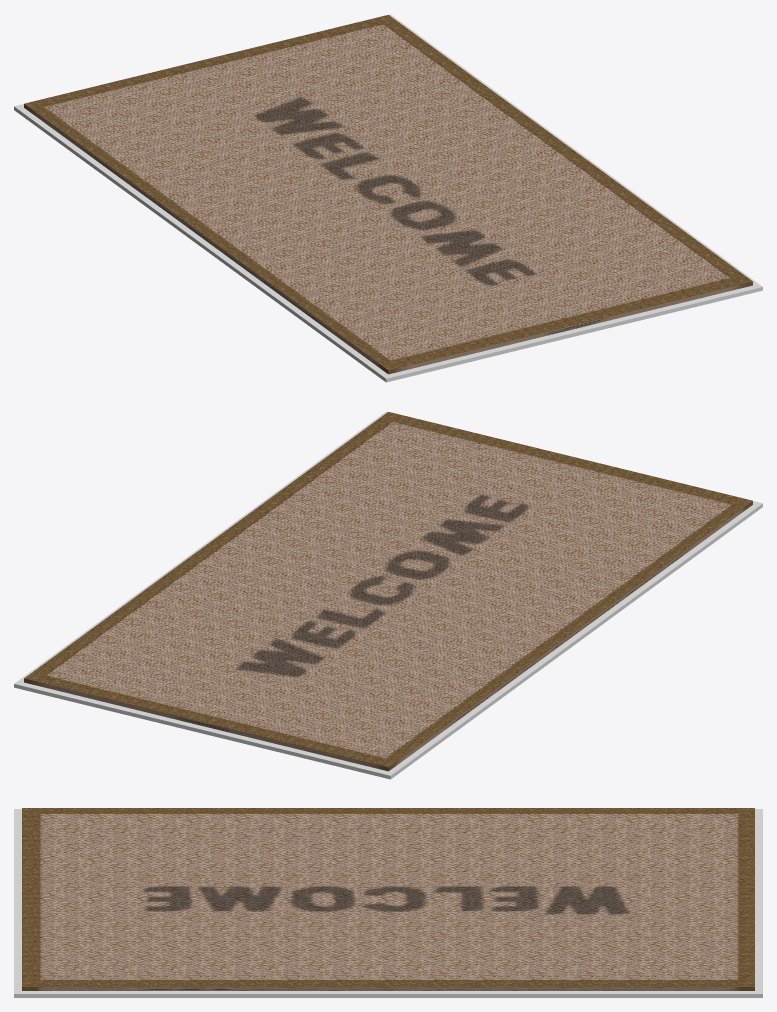
Rendered from Human-FloorMat.FBX.
3 views of the same model, one above another, from view 1: azimuth 30°, elevation 25°; view 2: azimuth 150°, elevation 25°; view 3: azimuth 270°, elevation 25° (orthographic).
Parts seen in each view (by area): view 1: Box002, Box001; view 2: Box002, Box001; view 3: Box002, Box001.
Boxes of the visible parts, <box> form: Box002: <box>24,15,752,374</box>; Box001: <box>14,14,762,382</box>; Box002: <box>24,412,752,771</box>; Box001: <box>14,411,762,779</box>; Box002: <box>22,808,754,990</box>; Box001: <box>14,809,762,997</box>.
Size of the model in its own units: 49.29 by 0.9712 by 84.34.
